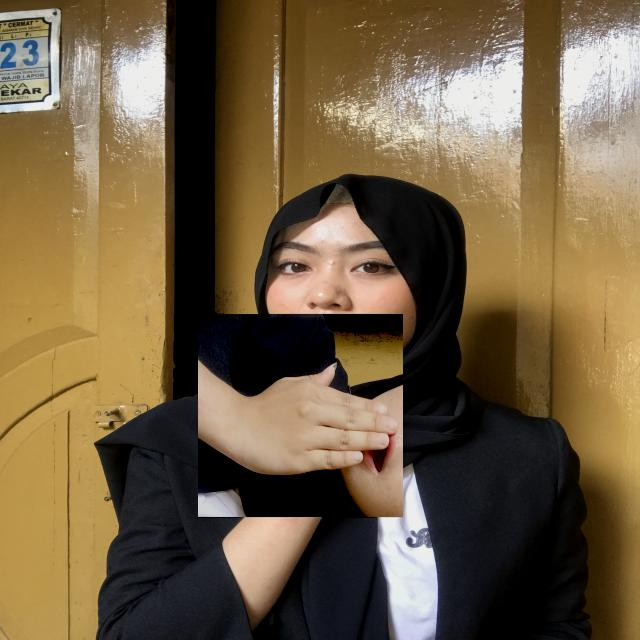ngantuk: (198, 313, 403, 518)
